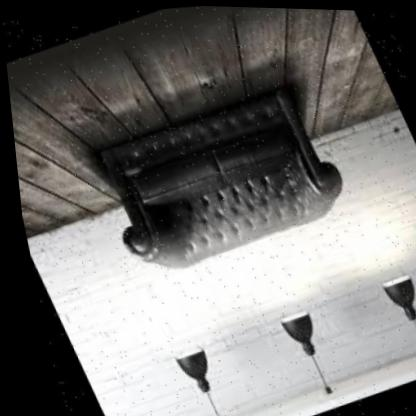Sofa: (83, 87, 355, 275)
